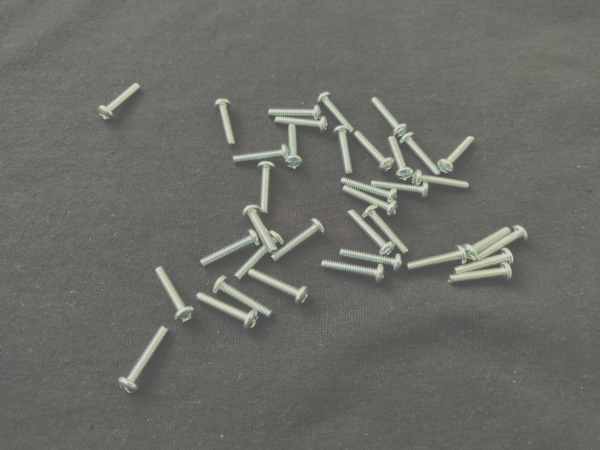longscrew: (117, 326, 169, 396), (212, 275, 274, 320), (233, 230, 285, 281), (270, 218, 326, 263), (196, 292, 259, 331), (361, 205, 410, 255), (200, 229, 261, 268), (346, 209, 395, 257), (247, 268, 310, 305), (155, 266, 195, 324), (477, 224, 530, 261), (399, 132, 442, 177), (462, 226, 513, 262), (342, 186, 399, 218), (97, 82, 141, 123), (242, 205, 278, 254), (353, 130, 394, 173), (317, 91, 356, 136), (454, 248, 516, 275), (321, 259, 387, 284), (407, 245, 469, 271), (437, 134, 476, 175), (340, 247, 403, 272), (340, 177, 398, 204), (372, 96, 407, 139), (448, 262, 514, 284), (412, 168, 470, 191), (214, 98, 238, 149), (387, 135, 413, 181), (371, 180, 430, 200), (232, 144, 290, 164), (256, 161, 277, 216), (332, 125, 354, 176), (274, 115, 329, 134), (268, 104, 322, 123), (284, 124, 303, 170)
